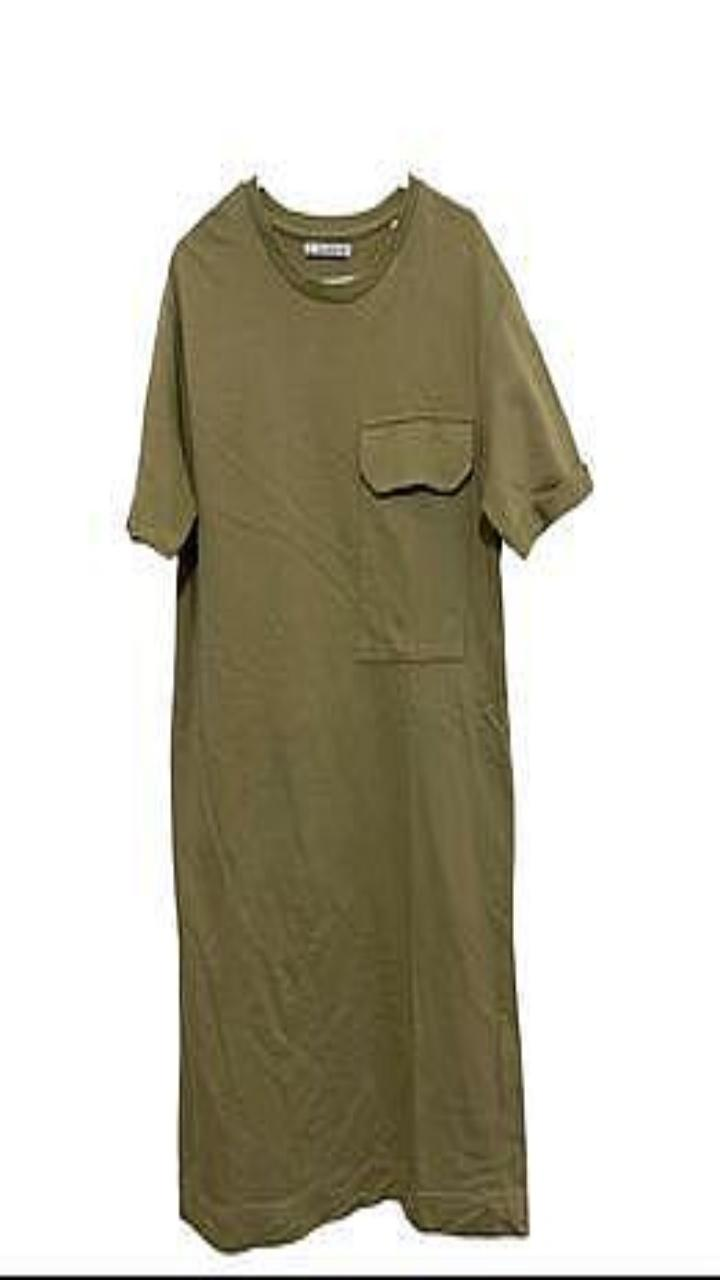T-Shirt: (127, 174, 591, 1250)
